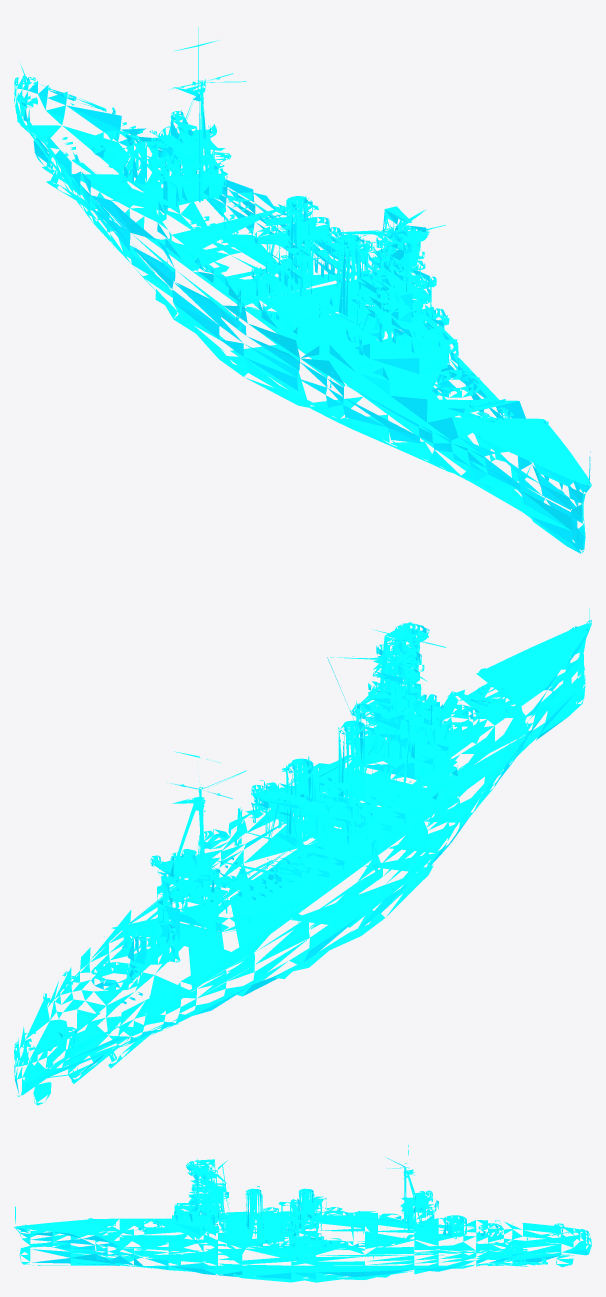
Rendered from Myogi.glb.
3 renders of one model, top to bottom at view 1: azimuth 30°, elevation 25°; view 2: azimuth 150°, elevation 25°; view 3: azimuth 270°, elevation 25°, orthographic. The views are drawn at different scales.
Size of the model in its own units: 2.02 by 3.59 by 14.13.
